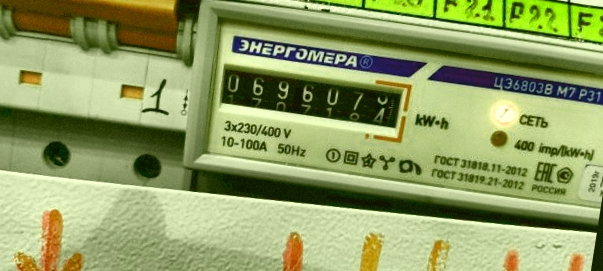0: (323, 84, 342, 108), (224, 71, 241, 94)
4: (371, 104, 387, 127)
6: (249, 74, 266, 97), (299, 82, 316, 104)
7: (348, 89, 366, 112)
9: (274, 78, 290, 101)
screen: (204, 52, 417, 142)
